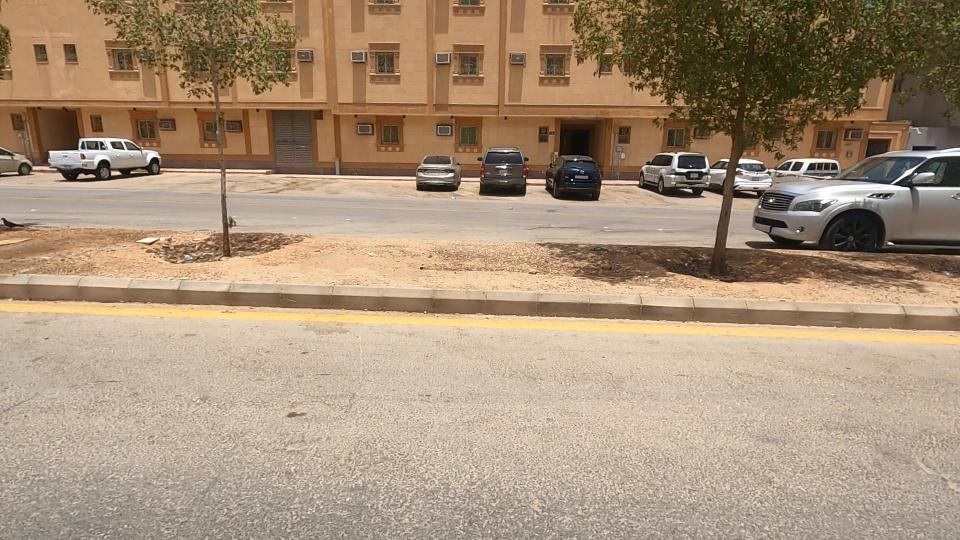GARBAGE: (90, 209, 242, 293)
